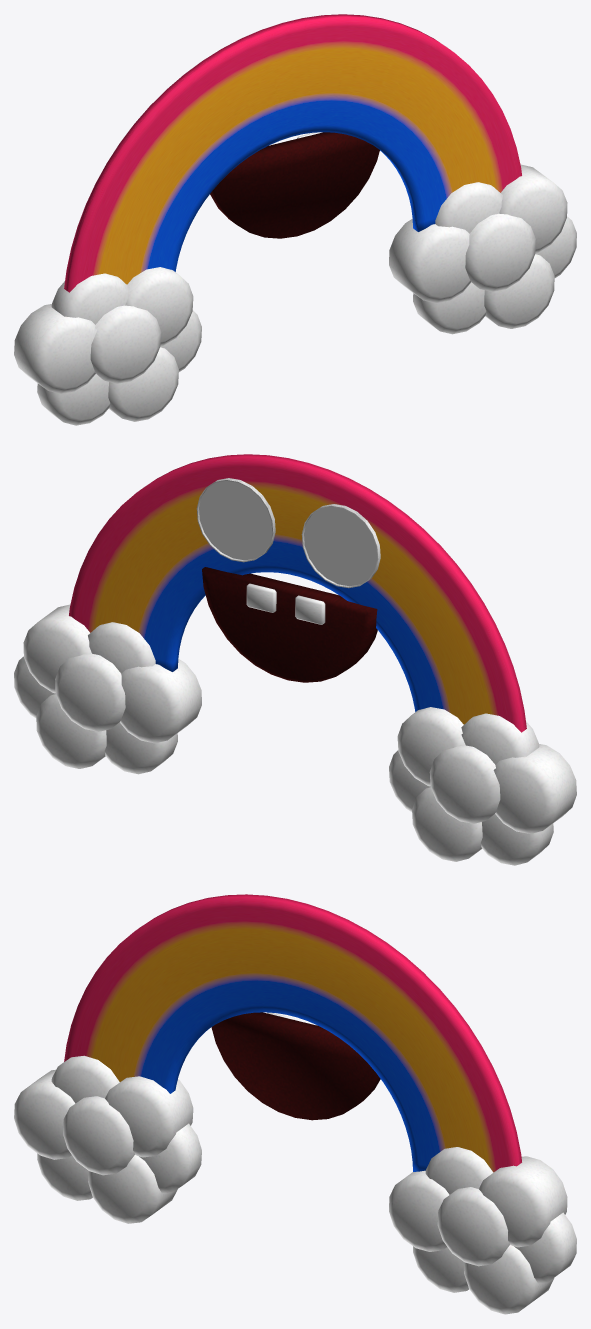
File: Rainbow.fbx
3 renders of one model, top to bottom at view 1: azimuth 30°, elevation 25°; view 2: azimuth 150°, elevation 25°; view 3: azimuth 330°, elevation 25°, orthographic.
Visible parts, largest first — view 1: Circle.007; view 2: Circle.007; view 3: Circle.007.
Boxes of the visible parts, left/top/right/bottom form: Circle.007: left=14, top=14, right=576, bottom=425; Circle.007: left=14, top=454, right=576, bottom=865; Circle.007: left=14, top=894, right=576, bottom=1314.
Bounding box in the file's own units: 130 × 79.61 × 14.45.
